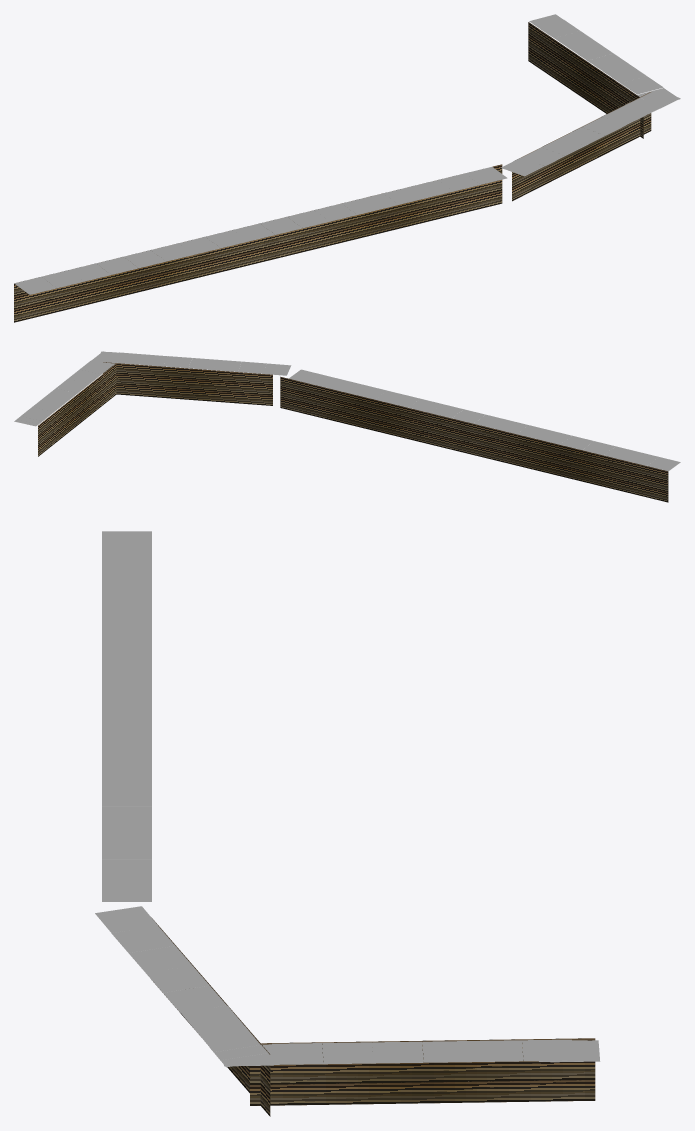
3 renders of one model, top to bottom at view 1: azimuth 30°, elevation 25°; view 2: azimuth 150°, elevation 25°; view 3: azimuth 270°, elevation 25°, orthographic. The views are drawn at different scales.
Parts seen in each view (by area): view 1: Heizung_vorne, Heizung_oben; view 2: Heizung_vorne, Heizung_oben; view 3: Heizung_oben, Heizung_vorne.
Boxes of the visible parts, bbox=[...] form: Heizung_vorne: bbox=[14, 22, 651, 322]; Heizung_oben: bbox=[14, 14, 680, 294]; Heizung_vorne: bbox=[38, 362, 668, 502]; Heizung_oben: bbox=[14, 351, 680, 471]; Heizung_oben: bbox=[95, 531, 600, 1067]; Heizung_vorne: bbox=[151, 917, 595, 1116].
Size of the model in its own units: 16.47 by 0.8982 by 6.57.
3 materials, 1 textured.
